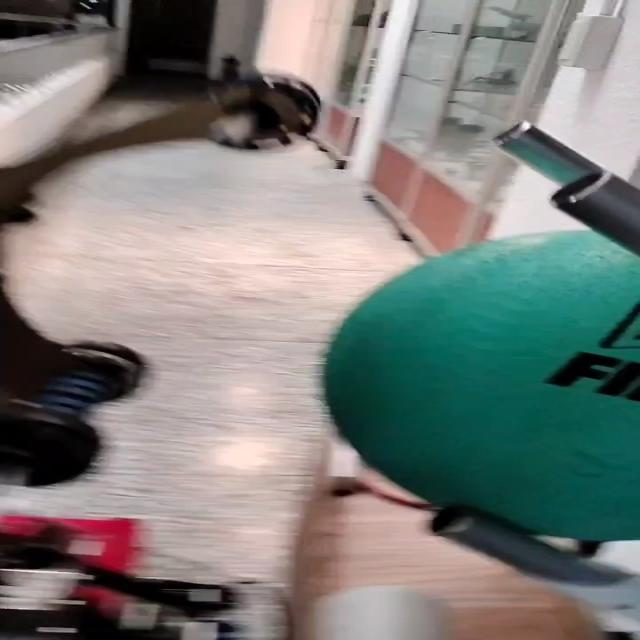ALGAE: (323, 230, 640, 536)
CORAL: (299, 578, 439, 640)
